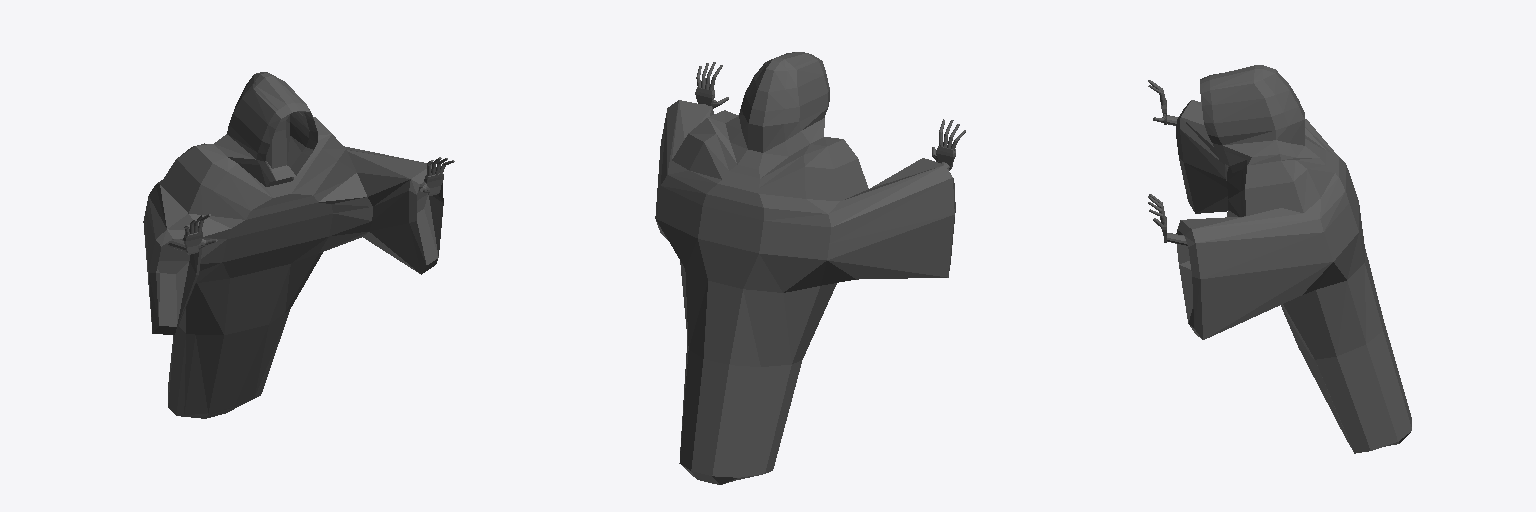
Rendered from Ghost.obj.
3 renders of one model, left to right at view 1: azimuth 30°, elevation 25°; view 2: azimuth 150°, elevation 25°; view 3: azimuth 270°, elevation 25°, orthographic.
Parts seen in each view (by area): view 1: default; view 2: default; view 3: default.
Boxes of the visible parts, x1=… form: default: x1=143, y1=72, x2=454, y2=418; default: x1=655, y1=52, x2=965, y2=484; default: x1=1148, y1=65, x2=1411, y2=453.
Size of the model in its own units: 105 by 129 by 82.11.